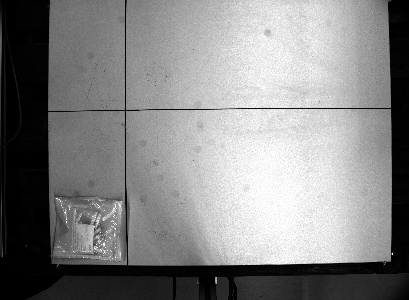t3: (49, 193, 125, 267)
